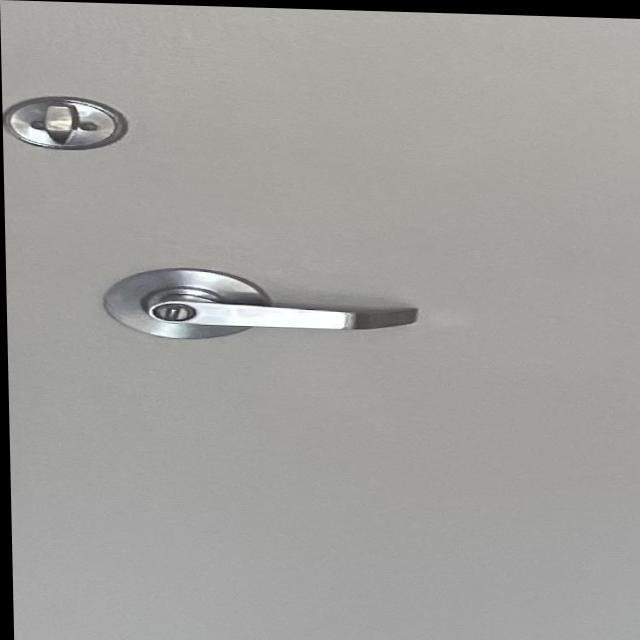door_handle: (116, 279, 447, 353)
